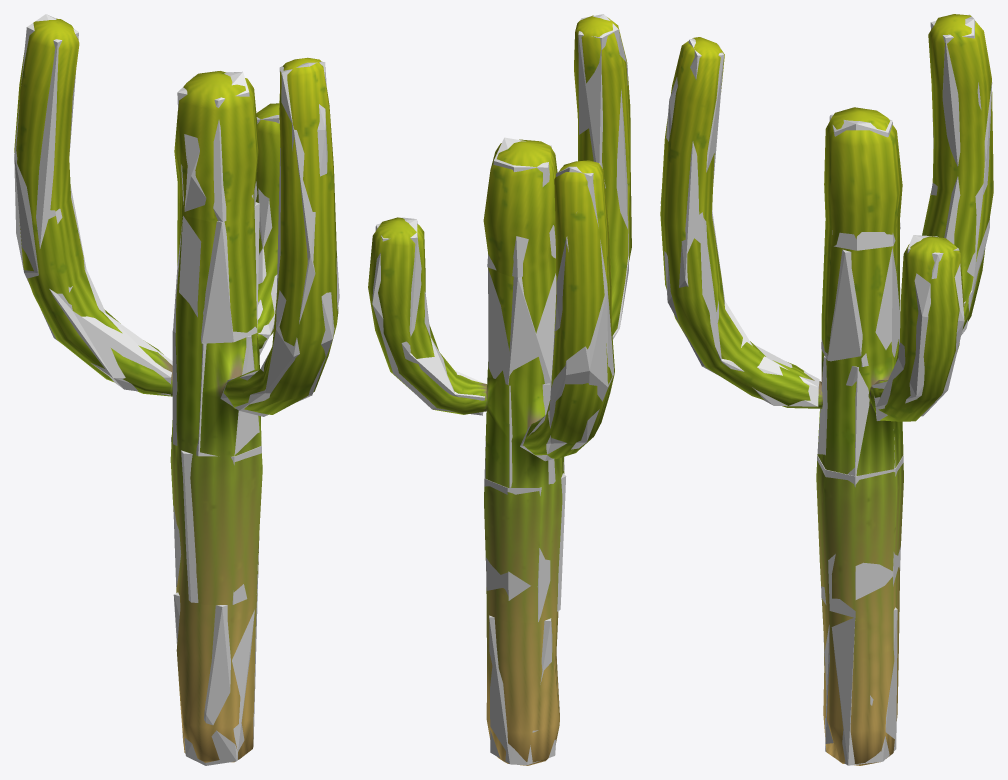
Rendered from Fractured_8.fbx.
3 views of the same model, side by side, from view 1: azimuth 30°, elevation 25°; view 2: azimuth 150°, elevation 25°; view 3: azimuth 270°, elevation 25° (orthographic). The views are drawn at different scales.
Parts seen in each view (by area): view 1: cactus_8_branch_2, cactus_8_branch_1, cactus_8_body_2, cactus_8_body_5, cactus_8_branch_1_cd, cactus_8_body_1, cactus_8_body_3, cactus_8_branch_2_cd, cactus_8_body_4, cactus_8_body_4_cd, cactus_8_body_1_cd, cactus_8_branch_3 (+4 smaller); view 2: cactus_8_branch_1, cactus_8_branch_3, cactus_8_body_2, cactus_8_body_1, cactus_8_body_5, cactus_8_branch_2, cactus_8_body_3, cactus_8_branch_1_cd, cactus_8_body_4_cd, cactus_8_branch_2_cd, cactus_8_branch_3_cd, cactus_8_body_4 (+4 smaller); view 3: cactus_8_branch_2, cactus_8_branch_1, cactus_8_body_2, cactus_8_body_5, cactus_8_branch_3, cactus_8_body_1, cactus_8_body_3, cactus_8_branch_2_cd, cactus_8_body_4, cactus_8_body_4_cd, cactus_8_body_1_cd, cactus_8_branch_1_cd (+4 smaller).
Boxes of the visible parts, bbox=[...] form: cactus_8_branch_2: bbox=[223, 57, 338, 414]; cactus_8_branch_1: bbox=[14, 18, 172, 396]; cactus_8_body_2: bbox=[170, 438, 262, 604]; cactus_8_body_5: bbox=[174, 71, 259, 221]; cactus_8_branch_1_cd: bbox=[14, 14, 172, 395]; cactus_8_body_1: bbox=[176, 588, 257, 762]; cactus_8_body_3: bbox=[170, 333, 261, 456]; cactus_8_branch_2_cd: bbox=[220, 61, 339, 416]; cactus_8_body_4: bbox=[176, 200, 256, 343]; cactus_8_body_4_cd: bbox=[173, 202, 259, 343]; cactus_8_body_1_cd: bbox=[173, 585, 257, 765]; cactus_8_branch_3: bbox=[256, 103, 280, 348]; cactus_8_branch_1: bbox=[523, 160, 614, 458]; cactus_8_branch_3: bbox=[368, 217, 485, 414]; cactus_8_body_2: bbox=[484, 471, 564, 622]; cactus_8_body_1: bbox=[486, 611, 559, 765]; cactus_8_body_5: bbox=[483, 139, 557, 277]; cactus_8_branch_2: bbox=[574, 15, 631, 335]; cactus_8_body_3: bbox=[484, 376, 563, 487]; cactus_8_branch_1_cd: bbox=[520, 163, 614, 461]; cactus_8_body_4_cd: bbox=[488, 268, 556, 385]; cactus_8_branch_2_cd: bbox=[578, 14, 628, 339]; cactus_8_branch_3_cd: bbox=[372, 217, 484, 415]; cactus_8_body_4: bbox=[487, 268, 555, 385]; cactus_8_branch_2: bbox=[660, 37, 819, 408]; cactus_8_branch_1: bbox=[922, 14, 993, 329]; cactus_8_body_2: bbox=[816, 461, 903, 617]; cactus_8_body_5: bbox=[824, 107, 902, 253]; cactus_8_branch_3: bbox=[869, 236, 964, 421]; cactus_8_body_1: bbox=[821, 598, 899, 765]; cactus_8_body_3: bbox=[817, 350, 903, 475]; cactus_8_branch_2_cd: bbox=[660, 38, 819, 406]; cactus_8_body_4: bbox=[821, 234, 899, 367]; cactus_8_body_4_cd: bbox=[821, 247, 900, 366]; cactus_8_body_1_cd: bbox=[823, 607, 897, 765]; cactus_8_branch_1_cd: bbox=[930, 14, 992, 334].
Size of the model in its own units: 695 by 1807 by 760.
